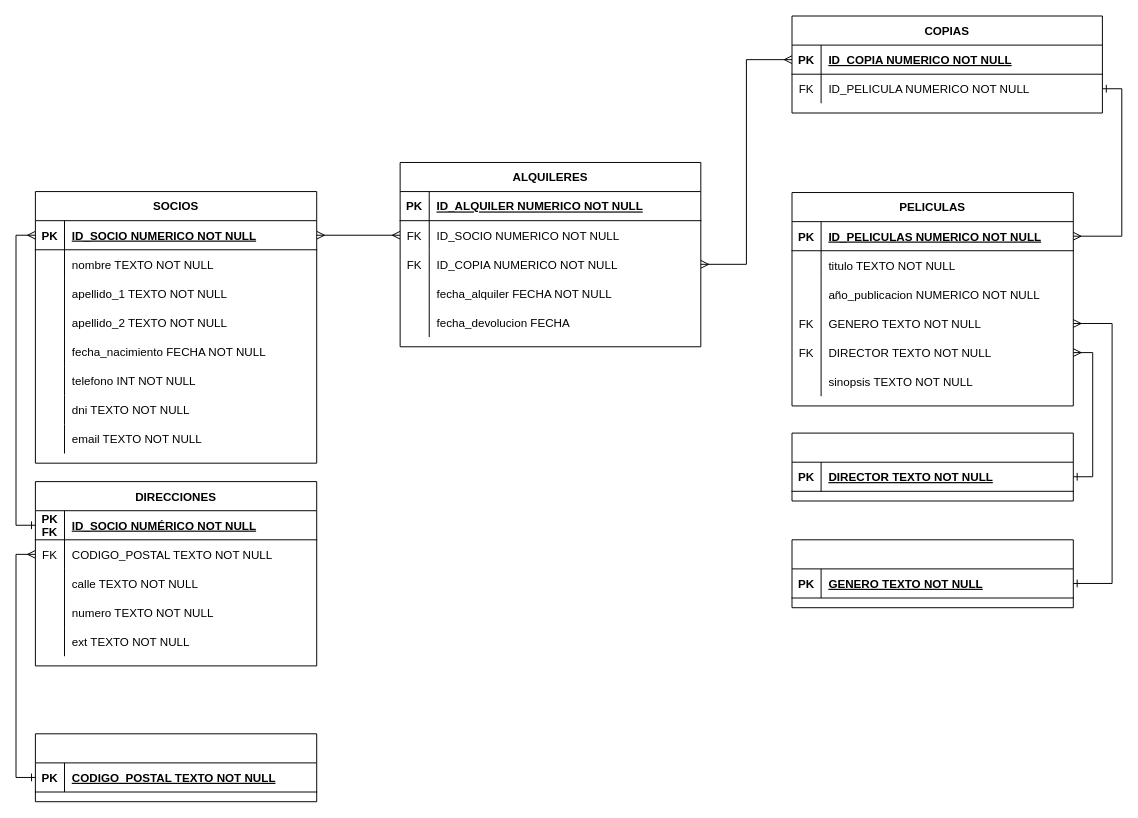
This 1138x818 diagram has some shape labels left out. The shapes that lost their labels are listed below. From the top down, each one's box as (x1, y1, x2, y2) in pixels, then its label:
(791, 432, 1073, 501): DIRECTORES
(791, 539, 1073, 608): GENEROS
(34, 733, 317, 802): CODIGOS_POSTALES
